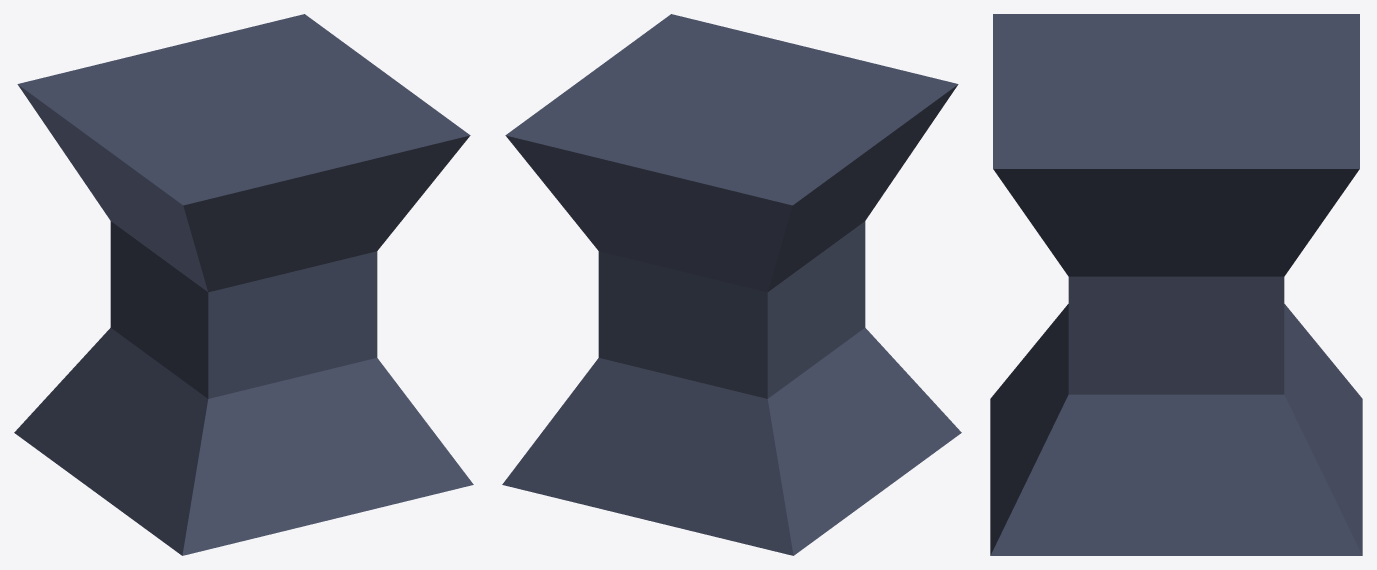
File: block.glb
The picture shows the model from 3 angles, left to right: view 1: azimuth 30°, elevation 25°; view 2: azimuth 150°, elevation 25°; view 3: azimuth 270°, elevation 25°; orthographic projection. The views are drawn at different scales.
Visible parts, largest first — view 1: Cube; view 2: Cube; view 3: Cube.
Boxes of the visible parts, x1,y1,x2,y2 form: Cube: (14,14,473,555); Cube: (502,14,961,555); Cube: (990,14,1362,555).
Bounding box in the file's own units: 2 × 2.29 × 2.
